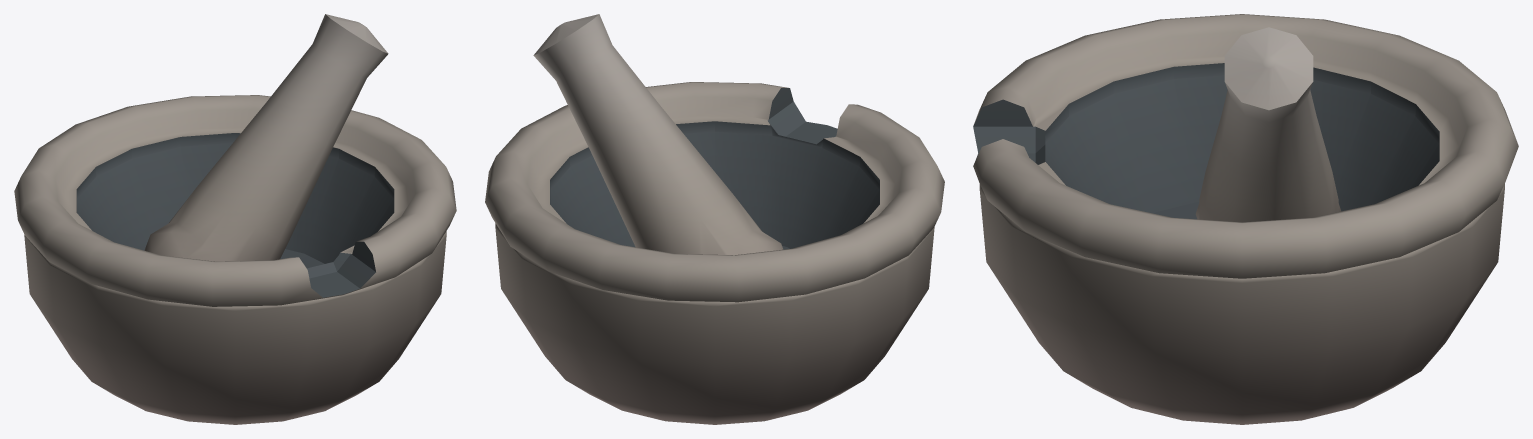
File: mortar.glb
3 views of the same model, side by side, from view 1: azimuth 30°, elevation 25°; view 2: azimuth 150°, elevation 25°; view 3: azimuth 270°, elevation 25° (orthographic). The views are drawn at different scales.
Parts seen in each view (by area): view 1: mortar; view 2: mortar; view 3: mortar.
Part boxes in pixels (x1,y1,x2,y2): mortar: [14, 14, 456, 424]; mortar: [485, 14, 944, 424]; mortar: [973, 14, 1518, 424].
Size of the model in its own units: 0.83 by 0.6444 by 0.8189.
Materials: 1 (1 with a texture image).
